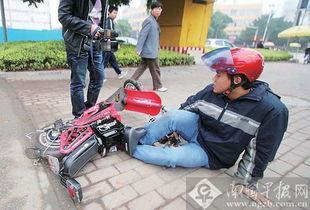Fall-Detected: (113, 41, 290, 191)
